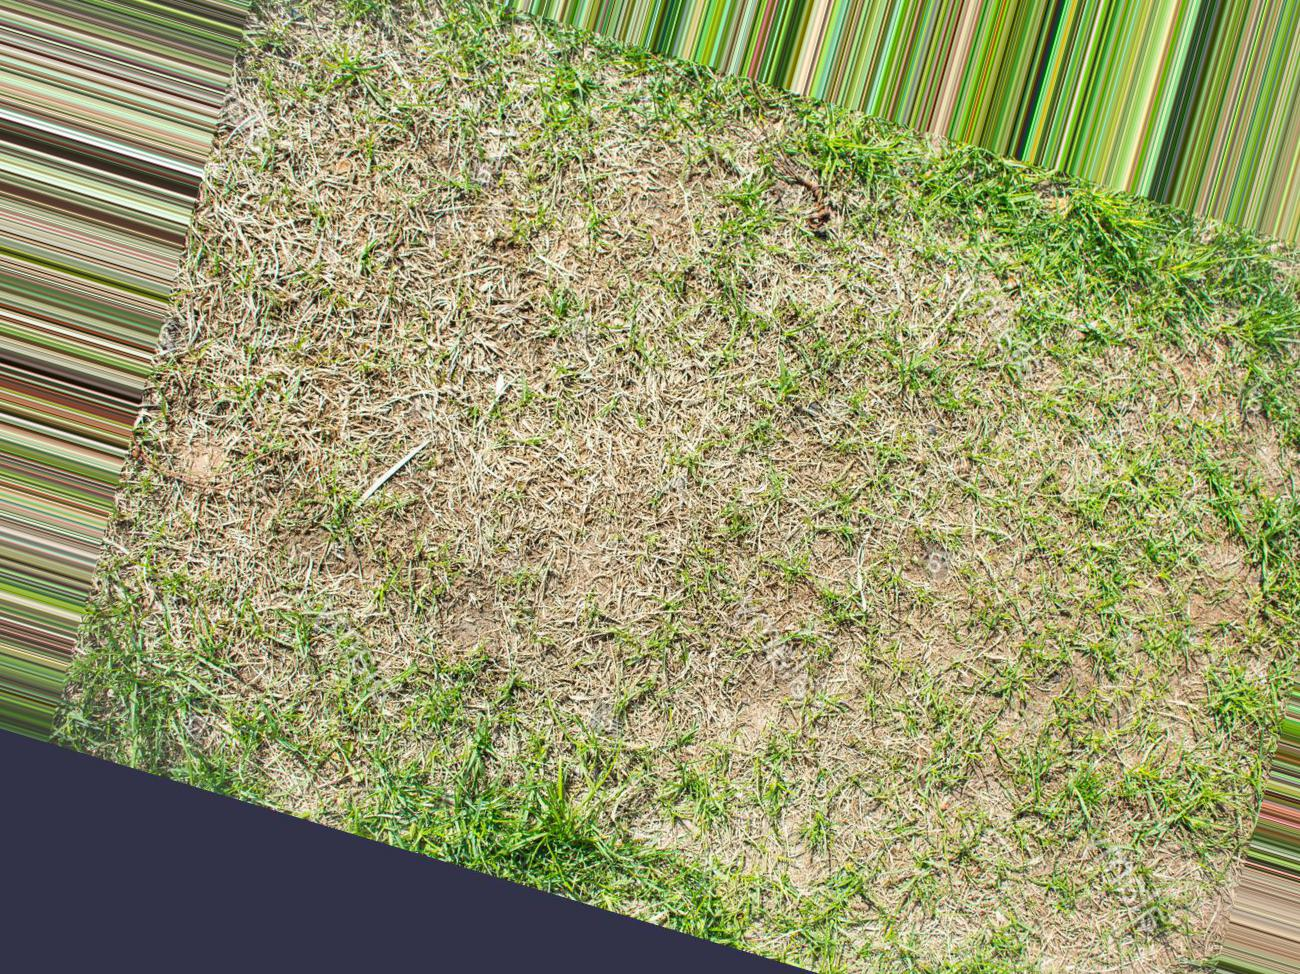patch: (452, 247, 827, 635), (222, 206, 488, 491), (908, 337, 1044, 567), (713, 674, 876, 767), (991, 811, 1115, 894), (982, 664, 1084, 751)
